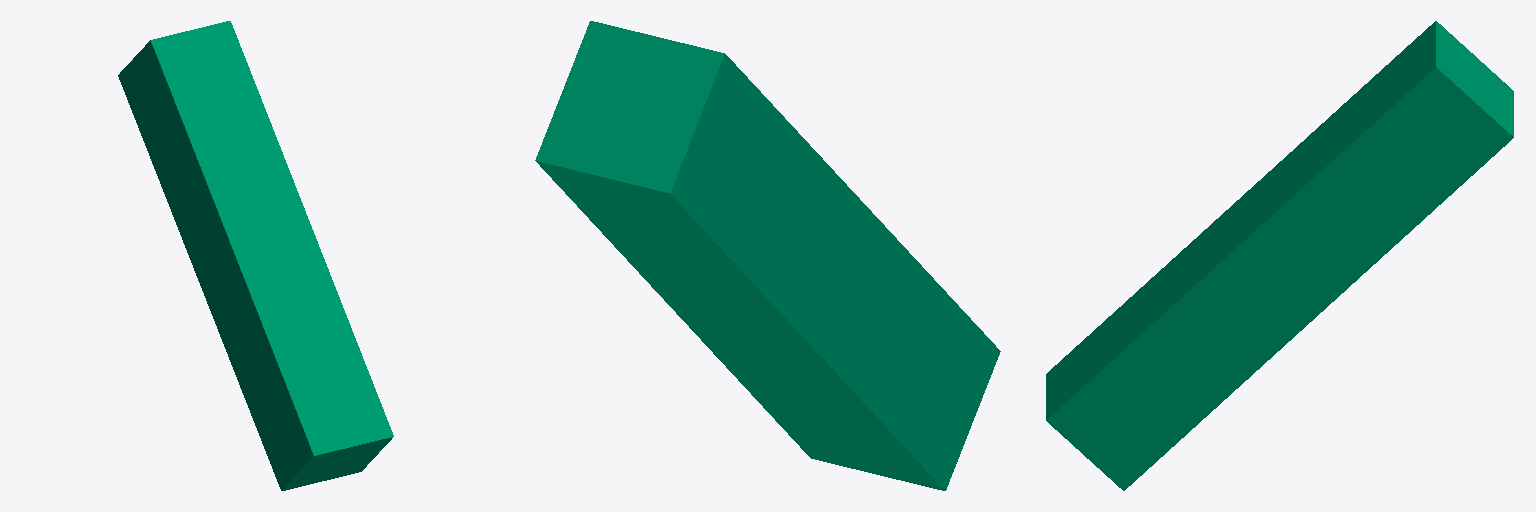
robot.urdf — panda:
<?xml version="1.0" ?>
<!-- =================================================================================== -->
<!-- |    This document was autogenerated by xacro from panda_arm_hand.urdf.xacro      | -->
<!-- |    EDITING THIS FILE BY HAND IS NOT RECOMMENDED                                 | -->
<!-- =================================================================================== -->
<robot name="panda" xmlns:xacro="http://www.ros.org/wiki/xacro">
  <link name="panda_link0">
    <visual>
      <geometry>
        <mesh filename="package://franka_description/meshes/visual/link0.dae"/>
      </geometry>
      </visual>
    <collision>
      <origin rpy="0 0 0" xyz="0.02 0.0 0.04"/>
      <geometry>
        <sphere radius="0.06"/>
      </geometry>
    </collision>
    <collision>
      <origin rpy="0 0 0" xyz="0.01 0.05 0.06"/>
      <geometry>
        <sphere radius="0.06"/>
      </geometry>
    </collision>
    <collision>
      <origin rpy="0 0 0" xyz="0.01 -0.05 0.06"/>
      <geometry>
        <sphere radius="0.06"/>
      </geometry>
    </collision>
    <collision>
      <origin rpy="0 0 0" xyz="-0.06 0.0 0.06"/>
      <geometry>
        <sphere radius="0.06"/>
      </geometry>
    </collision>
    <collision>
      <origin rpy="0 0 0" xyz="-0.06 0.05 0.06"/>
      <geometry>
        <sphere radius="0.06"/>
      </geometry>
    </collision>
    <collision>
      <origin rpy="0 0 0" xyz="-0.03 0.05 0.06"/>
      <geometry>
        <sphere radius="0.06"/>
      </geometry>
    </collision>
    <collision>
      <origin rpy="0 0 0" xyz="-0.03 -0.05 0.06"/>
      <geometry>
        <sphere radius="0.06"/>
      </geometry>
    </collision>
    <collision>
      <origin rpy="0 0 0" xyz="-0.06 -0.05 0.06"/>
      <geometry>
        <sphere radius="0.06"/>
      </geometry>
    </collision>
    <collision>
      <origin rpy="0 0 0" xyz="-0.09 -0.05 0.06"/>
      <geometry>
        <sphere radius="0.06"/>
      </geometry>
    </collision>
    <collision>
      <origin rpy="0 0 0" xyz="-0.09 0.0 0.06"/>
      <geometry>
        <sphere radius="0.06"/>
      </geometry>
    </collision>
    <collision>
      <origin rpy="0 0 0" xyz="-0.09 0.05 0.06"/>
      <geometry>
        <sphere radius="0.06"/>
      </geometry>
    </collision>
    <collision>
      <origin rpy="0 0 0" xyz="-0.12 0.0 0.06"/>
      <geometry>
        <sphere radius="0.06"/>
      </geometry>
    </collision>
    <collision>
      <origin rpy="0 0 0" xyz="0.0 0.0 0.113"/>
      <geometry>
        <sphere radius="0.06"/>
      </geometry>
    </collision>
    <collision>
      <origin rpy="0 0 0" xyz="0.0 0.0 0.083"/>
      <geometry>
        <sphere radius="0.06"/>
      </geometry>
    </collision>

    <inertial>
      <origin rpy="0 0 0" xyz="0 0 0"/>
      <mass value="2.8142028896"/>
      <inertia ixx="0.0129886979" ixy="0.0" ixz="0.0" iyy="0.0165355284" iyz="0" izz="0.0203311636"/>
    </inertial>
  </link>
  <link name="panda_link1">
    <visual>
      <geometry>
        <mesh filename="package://franka_description/meshes/visual/link1.dae"/>
      </geometry>
  </visual>
    <collision>
      <origin rpy="0 0 0" xyz="0.0 0.0 -0.13"/>
      <geometry>
        <sphere radius="0.06"/>
      </geometry>
    </collision>
    <collision>
      <origin rpy="0 0 0" xyz="0.0 0.0 -0.16"/>
      <geometry>
        <sphere radius="0.06"/>
      </geometry>
    </collision>
    <collision>
      <origin rpy="0 0 0" xyz="0.0 0.0 -0.19"/>
      <geometry>
        <sphere radius="0.06"/>
      </geometry>
    </collision>
    <collision>
      <origin rpy="0 0 0" xyz="0.0 -0.04 -0.06"/>
      <geometry>
        <sphere radius="0.06"/>
      </geometry>
    </collision>
    <collision>
      <origin rpy="0 0 0" xyz="0.0 -0.0750 -0.0"/>
      <geometry>
        <sphere radius="0.06"/>
      </geometry>
    </collision>
    <collision>
      <origin rpy="0 0 0" xyz="0.0 -0.0350 -0.0"/>
      <geometry>
        <sphere radius="0.06"/>
      </geometry>
    </collision>

    <inertial>
      <origin rpy="0 0 0" xyz="0 0 0"/>
      <mass value="2.3599995791"/>
      <inertia ixx="0.0186863903" ixy="0.0" ixz="0.0" iyy="0.0143789874" iyz="0" izz="0.00906812"/>
    </inertial>
  </link>
  <joint name="panda_joint1" type="revolute">
    <safety_controller k_position="100.0" k_velocity="40.0" soft_lower_limit="-2.8973" soft_upper_limit="2.8973"/>
    <origin rpy="0 0 0" xyz="0 0 0.333"/>
    <parent link="panda_link0"/>
    <child link="panda_link1"/>
    <axis xyz="0 0 1"/>
    <limit effort="87" lower="-2.8973" upper="2.8973" velocity="2.1750"/>
  </joint>
  <link name="panda_link2">
    <visual>
      <geometry>
        <mesh filename="package://franka_description/meshes/visual/link2.dae"/>
      </geometry>
      </visual>
      <collision>
      <origin rpy="0 0 0" xyz="0.0 0.0 0.0"/>
      <geometry>
        <sphere radius="0.06"/>
      </geometry>
    </collision>
    <collision>
      <origin rpy="0 0 0" xyz="0.0 0.0 0.035"/>
      <geometry>
        <sphere radius="0.06"/>
      </geometry>
    </collision>
    <collision>
      <origin rpy="0 0 0" xyz="0.0 0.0 0.075"/>
      <geometry>
        <sphere radius="0.06"/>
      </geometry>
    </collision>
    <collision>
      <origin rpy="0 0 0" xyz="0.0 -0.1710 0.0"/>
      <geometry>
        <sphere radius="0.06"/>
      </geometry>
    </collision>
    <collision>
      <origin rpy="0 0 0" xyz="0.0 -0.1360 0.0"/>
      <geometry>
        <sphere radius="0.06"/>
      </geometry>
    </collision>
    <collision>
      <origin rpy="0 0 0" xyz="0.0 -0.070 0.040"/>
      <geometry>
        <sphere radius="0.06"/>
      </geometry>
    </collision>
    <inertial>
      <origin rpy="0 0 0" xyz="0 0 0"/>
      <mass value="2.379518833"/>
      <inertia ixx="0.0190388734" ixy="0.0" ixz="0.0" iyy="0.0091429124" iyz="0" izz="0.014697537"/>
    </inertial>
  </link>
  <joint name="panda_joint2" type="revolute">
    <safety_controller k_position="100.0" k_velocity="40.0" soft_lower_limit="-1.7628" soft_upper_limit="1.7628"/>
    <origin rpy="-1.57079632679 0 0" xyz="0 0 0"/>
    <parent link="panda_link1"/>
    <child link="panda_link2"/>
    <axis xyz="0 0 1"/>
    <limit effort="87" lower="-1.7628" upper="1.7628" velocity="2.1750"/>
  </joint>
  <link name="panda_link3">
    <visual>
      <geometry>
        <mesh filename="package://franka_description/meshes/visual/link3.dae"/>
      </geometry>
  </visual>
    <collision>
      <origin rpy="0 0 0" xyz="0.0 0.0 -0.11"/>
      <geometry>
        <sphere radius="0.06"/>
      </geometry>
    </collision>
    <collision>
      <origin rpy="0 0 0" xyz="0.0 0.0 -0.07"/>
      <geometry>
        <sphere radius="0.06"/>
      </geometry>
    </collision>
    <collision>
      <origin rpy="0 0 0" xyz="0.0825 0.03 -0.0"/>
      <geometry>
        <sphere radius="0.06"/>
      </geometry>
    </collision>
    <collision>
      <origin rpy="0 0 0" xyz="0.0825 0.06 -0.0"/>
      <geometry>
        <sphere radius="0.06"/>
      </geometry>
    </collision>
    <collision>
      <origin rpy="0 0 0" xyz="0.04 0.03 -0.03"/>
      <geometry>
        <sphere radius="0.06"/>
      </geometry>
    </collision>
    <inertial>
      <origin rpy="0 0 0" xyz="0 0 0"/>
      <mass value="2.6498823337"/>
      <inertia ixx="0.0129300178" ixy="0.0" ixz="0.0" iyy="0.0150242121" iyz="0" izz="0.0142734598"/>
    </inertial>
  </link>
  <joint name="panda_joint3" type="revolute">
    <safety_controller k_position="100.0" k_velocity="40.0" soft_lower_limit="-2.8973" soft_upper_limit="2.8973"/>
    <origin rpy="1.57079632679 0 0" xyz="0 -0.316 0"/>
    <parent link="panda_link2"/>
    <child link="panda_link3"/>
    <axis xyz="0 0 1"/>
    <limit effort="87" lower="-2.8973" upper="2.8973" velocity="2.1750"/>
  </joint>
  <link name="panda_link4">
    <visual>
      <geometry>
        <mesh filename="package://franka_description/meshes/visual/link4.dae"/>
      </geometry>
      </visual>
      <collision>
      <origin rpy="0 0 0" xyz="0.0 0.0 0.06"/>
      <geometry>
        <sphere radius="0.06"/>
      </geometry>
    </collision>
    <collision>
      <origin rpy="0 0 0" xyz="0.0 0.0 0.03"/>
      <geometry>
        <sphere radius="0.06"/>
      </geometry>
    </collision>
    <collision>
      <origin rpy="0 0 0" xyz="-0.0350 0.03 0.04"/>
      <geometry>
        <sphere radius="0.05"/>
      </geometry>
    </collision>
    <collision>
      <origin rpy="0 0 0" xyz="-0.05 0.04 0.01"/>
      <geometry>
        <sphere radius="0.055"/>
      </geometry>
    </collision>
    <collision>
      <origin rpy="0 0 0" xyz="0.0 0.0 0.0"/>
      <geometry>
        <sphere radius="0.06"/>
      </geometry>
    </collision>
    <collision>
      <origin rpy="0 0 0" xyz="-0.0825 0.0640 -0.0"/>
      <geometry>
        <sphere radius="0.06"/>
      </geometry>
    </collision>
    <collision>
      <origin rpy="0 0 0" xyz="-0.0825 0.1040 -0.0"/>
      <geometry>
        <sphere radius="0.06"/>
      </geometry>
    </collision>
    <inertial>
      <origin rpy="0 0 0" xyz="0 0 0"/>
      <mass value="2.6948018744"/>
      <inertia ixx="0.0133874611" ixy="0.0" ixz="0.0" iyy="0.014514325" iyz="0" izz="0.0155175551"/>
    </inertial>
  </link>
  <joint name="panda_joint4" type="revolute">
    <safety_controller k_position="100.0" k_velocity="40.0" soft_lower_limit="-3.0718" soft_upper_limit="-0.0698"/>
    <origin rpy="1.57079632679 0 0" xyz="0.0825 0 0"/>
    <parent link="panda_link3"/>
    <child link="panda_link4"/>
    <axis xyz="0 0 1"/>
    <limit effort="87" lower="-3.0718" upper="-0.0698" velocity="2.1750"/>
  </joint>
  <link name="panda_link5">
    <visual>
      <geometry>
        <mesh filename="package://franka_description/meshes/visual/link5.dae"/>
      </geometry>
      </visual>
      <collision>
      <origin rpy="0 0 0" xyz="0.0 0.0 -0.24"/>
      <geometry>
        <sphere radius="0.06"/>
      </geometry>
    </collision>
    <collision>
      <origin rpy="0 0 0" xyz="0.0 0.0 -0.21"/>
      <geometry>
        <sphere radius="0.06"/>
      </geometry>
    </collision>
    <collision>
      <origin rpy="0 0 0" xyz="0.0 0.09 -0.055"/>
      <geometry>
        <sphere radius="0.035"/>
      </geometry>
    </collision>
    <collision>
      <origin rpy="0 0 0" xyz="0.0 0.0850 -0.08"/>
      <geometry>
        <sphere radius="0.035"/>
      </geometry>
    </collision>
    <collision>
      <origin rpy="0 0 0" xyz="0.0 0.0850 -0.11"/>
      <geometry>
        <sphere radius="0.035"/>
      </geometry>
    </collision>
    <collision>
      <origin rpy="0 0 0" xyz="0.0 0.08 -0.13"/>
      <geometry>
        <sphere radius="0.035"/>
      </geometry>
    </collision>
    <collision>
      <origin rpy="0 0 0" xyz="0.0 0.08 -0.15"/>
      <geometry>
        <sphere radius="0.035"/>
      </geometry>
    </collision>
    <collision>
      <origin rpy="0 0 0" xyz="0.0 0.07 -0.16"/>
      <geometry>
        <sphere radius="0.04"/>
      </geometry>
    </collision>
    <collision>
      <origin rpy="0 0 0" xyz="0.0 0.08 -0.02"/>
      <geometry>
        <sphere radius="0.05"/>
      </geometry>
    </collision>
    <collision>
      <origin rpy="0 0 0" xyz="0.0 0.08 -0.0"/>
      <geometry>
        <sphere radius="0.055"/>
      </geometry>
    </collision>
    <collision>
      <origin rpy="0 0 0" xyz="0.0 0.05 -0.20"/>
      <geometry>
        <sphere radius="0.055"/>
      </geometry>
    </collision>
    <collision>
      <origin rpy="0 0 0" xyz="0.0 0.07 -0.0"/>
      <geometry>
        <sphere radius="0.06"/>
      </geometry>
    </collision>

    <inertial>
      <origin rpy="0 0 0" xyz="0 0 0"/>
      <mass value="2.9812816864"/>
      <inertia ixx="0.0325565705" ixy="0.0" ixz="0.0" iyy="0.0270660472" iyz="0" izz="0.0115023375"/>
    </inertial>
  </link>
  <joint name="panda_joint5" type="revolute">
    <safety_controller k_position="100.0" k_velocity="40.0" soft_lower_limit="-2.8973" soft_upper_limit="2.8973"/>
    <origin rpy="-1.57079632679 0 0" xyz="-0.0825 0.384 0"/>
    <parent link="panda_link4"/>
    <child link="panda_link5"/>
    <axis xyz="0 0 1"/>
    <limit effort="12" lower="-2.8973" upper="2.8973" velocity="2.6100"/>
  </joint>
  <link name="panda_link6">
    <visual>
      <geometry>
        <mesh filename="package://franka_description/meshes/visual/link6.dae"/>
      </geometry>
      </visual>
      <collision>
      <origin rpy="0 0 0" xyz="0.08 0.03 0.0"/>
      <geometry>
        <sphere radius="0.06"/>
      </geometry>
    </collision>
    <collision>
      <origin rpy="0 0 0" xyz="0.04 0.01 0.0"/>
      <geometry>
        <sphere radius="0.06"/>
      </geometry>
    </collision>
    <collision>
      <origin rpy="0 0 0" xyz="0.04 0.0 0.0"/>
      <geometry>
        <sphere radius="0.06"/>
      </geometry>
    </collision>
    <collision>
      <origin rpy="0 0 0" xyz="0.0 0.0 0.01"/>
      <geometry>
        <sphere radius="0.06"/>
      </geometry>
    </collision>
    <collision>
      <origin rpy="0 0 0" xyz="0.0 0.0 -0.03"/>
      <geometry>
        <sphere radius="0.05"/>
      </geometry>
    </collision>
    <inertial>
      <origin rpy="0 0 0" xyz="0 0 0"/>
      <mass value="1.1285806309"/>
      <inertia ixx="0.0026052565" ixy="0.0" ixz="0.0" iyy="0.0039897229" iyz="0" izz="0.0047048591"/>
    </inertial>
  </link>
  <joint name="panda_joint6" type="revolute">
    <safety_controller k_position="100.0" k_velocity="40.0" soft_lower_limit="-0.0175" soft_upper_limit="3.7525"/>
    <origin rpy="1.57079632679 0 0" xyz="0 0 0"/>
    <parent link="panda_link5"/>
    <child link="panda_link6"/>
    <axis xyz="0 0 1"/>
    <limit effort="12" lower="-0.0175" upper="3.7525" velocity="2.6100"/>
  </joint>
  <link name="panda_link7">
    <visual>
      <geometry>
        <mesh filename="package://franka_description/meshes/visual/link7.dae"/>
      </geometry>
      </visual>
      <collision>
      <origin rpy="0 0 0" xyz="0 0 0.06"/>
      <geometry>
        <sphere radius="0.06"/>
      </geometry>
    </collision>
    <collision>
      <origin rpy="0 0 0" xyz="0 0 0.01"/>
      <geometry>
        <sphere radius="0.05"/>
      </geometry>
    </collision>
    <inertial>
      <origin rpy="0 0 0" xyz="0 0 0"/>
      <mass value="0.4052912465"/>
      <inertia ixx="0.0006316592" ixy="0.0" ixz="0.0" iyy="0.0006319639" iyz="0" izz="0.0010607721"/>
    </inertial>
  </link>
  <joint name="panda_joint7" type="revolute">
    <safety_controller k_position="100.0" k_velocity="40.0" soft_lower_limit="-2.8973" soft_upper_limit="2.8973"/>
    <origin rpy="1.57079632679 0 0" xyz="0.088 0 0"/>
    <parent link="panda_link6"/>
    <child link="panda_link7"/>
    <axis xyz="0 0 1"/>
    <limit effort="12" lower="-2.8973" upper="2.8973" velocity="2.6100"/>
  </joint>
  <link name="panda_tool_tip"/>
  <link name="panda_link8">
    <collision>
      <origin rpy="0 0 0" xyz="0.042 0.042 -0.02"/>
      <geometry>
        <sphere radius="0.04"/>
      </geometry>
    </collision>
  </link>
  <link name="camera_frame">
    <visual>
      <geometry>
        <box size="0.1 0.02 0.02" />
      </geometry>
    </visual>
    <collision>
      <geometry>
        <box size="0.1 0.02 0.02" />
      </geometry>
    </collision>
  </link>
  <joint name="panda_joint8" type="fixed">
    <origin rpy="0 0 0" xyz="0 0 0.107"/>
    <parent link="panda_link7"/>
    <child link="panda_link8"/>
    <axis xyz="0 0 0"/>
</joint>
  <transmission name="panda_tran1">
    <type>transmission_interface/SimpleTransmission</type>
    <joint name="panda_joint1">
      <hardwareInterface>PositionJointInterface</hardwareInterface>
    </joint>
    <actuator name="panda_motor1">
      <hardwareInterface>PositionJointInterface</hardwareInterface>
      <mechanicalReduction>1</mechanicalReduction>
    </actuator>
  </transmission>
  <transmission name="panda_tran2">
    <type>transmission_interface/SimpleTransmission</type>
    <joint name="panda_joint2">
      <hardwareInterface>PositionJointInterface</hardwareInterface>
    </joint>
    <actuator name="panda_motor2">
      <hardwareInterface>PositionJointInterface</hardwareInterface>
      <mechanicalReduction>1</mechanicalReduction>
    </actuator>
  </transmission>
  <transmission name="panda_tran3">
    <type>transmission_interface/SimpleTransmission</type>
    <joint name="panda_joint3">
      <hardwareInterface>PositionJointInterface</hardwareInterface>
    </joint>
    <actuator name="panda_motor3">
      <hardwareInterface>PositionJointInterface</hardwareInterface>
      <mechanicalReduction>1</mechanicalReduction>
    </actuator>
  </transmission>
  <transmission name="panda_tran4">
    <type>transmission_interface/SimpleTransmission</type>
    <joint name="panda_joint4">
      <hardwareInterface>PositionJointInterface</hardwareInterface>
    </joint>
    <actuator name="panda_motor4">
      <hardwareInterface>PositionJointInterface</hardwareInterface>
      <mechanicalReduction>1</mechanicalReduction>
    </actuator>
  </transmission>
  <transmission name="panda_tran5">
    <type>transmission_interface/SimpleTransmission</type>
    <joint name="panda_joint5">
      <hardwareInterface>PositionJointInterface</hardwareInterface>
    </joint>
    <actuator name="panda_motor5">
      <hardwareInterface>PositionJointInterface</hardwareInterface>
      <mechanicalReduction>1</mechanicalReduction>
    </actuator>
  </transmission>
  <transmission name="panda_tran6">
    <type>transmission_interface/SimpleTransmission</type>
    <joint name="panda_joint6">
      <hardwareInterface>PositionJointInterface</hardwareInterface>
    </joint>
    <actuator name="panda_motor6">
      <hardwareInterface>PositionJointInterface</hardwareInterface>
      <mechanicalReduction>1</mechanicalReduction>
    </actuator>
  </transmission>
  <transmission name="panda_tran7">
    <type>transmission_interface/SimpleTransmission</type>
    <joint name="panda_joint7">
      <hardwareInterface>PositionJointInterface</hardwareInterface>
    </joint>
    <actuator name="panda_motor7">
      <hardwareInterface>PositionJointInterface</hardwareInterface>
      <mechanicalReduction>1</mechanicalReduction>
    </actuator>
  </transmission>

  <joint name="panda_hand_joint" type="fixed">
    <parent link="panda_link8"/>
    <child link="panda_hand"/>
    <origin rpy="0 0 -0.785398163397" xyz="0 0 0"/>
  </joint>
  <link name="panda_hand">
    <visual>
      <geometry>
        <mesh filename="package://franka_description/meshes/visual/hand.dae"/>
      </geometry>
      </visual>
      <collision>
      <origin rpy="0 0 0" xyz="0 -0.06 0.015"/>
      <geometry>
        <sphere radius="0.05"/>
      </geometry>
    </collision>
    <collision>
      <origin rpy="0 0 0" xyz="0 -0.06 0.03"/>
      <geometry>
        <sphere radius="0.05"/>
      </geometry>
    </collision>
    <collision>
      <origin rpy="0 0 0" xyz="0 0 0.03"/>
      <geometry>
        <sphere radius="0.05"/>
      </geometry>
    </collision>
    <collision>
      <origin rpy="0 0 0" xyz="0 0.06 0.03"/>
      <geometry>
        <sphere radius="0.05"/>
      </geometry>
    </collision>
    <inertial>
      <origin rpy="0 0 0" xyz="0 0 0"/>
      <mass value="0.5583304799"/>
      <inertia ixx="0.0023394448" ixy="0.0" ixz="0.0" iyy="0.0005782786" iyz="0" izz="0.0021310296"/>
    </inertial>
  </link>
  <joint name="panda_tool_tip_joint" type="fixed">
    <origin rpy="0 -1.5708 0" xyz="0 0 0.10"/>
    <parent link="panda_hand"/>
    <child link="panda_tool_tip"/>
    <axis xyz="0 0 0"/>
  </joint>

  <joint name="camera_frame_joint" type="fixed">
    <origin rpy="0 0 -1.5708" xyz="0.030768772587180138 0.0 0.05"/>
    <parent link="panda_hand"/>
    <child link="camera_frame"/>
    <axis xyz="0 0 0"/>
  </joint>
  <link name="panda_leftfinger">
    <visual>
      <geometry>
        <mesh filename="package://franka_description/meshes/visual/finger.dae"/>
      </geometry>
      </visual>
      <collision>
      <origin rpy="0 0 0" xyz="0 0.007 0.045"/>
      <geometry>
        <sphere radius="0.012"/>
        </geometry>
      <surface>
      <friction>
        <ode>
            <mu>8.0</mu>
            <mu2>8.0</mu2>
        </ode>
      </friction>
      </surface>
    </collision>
    <collision>
      <origin rpy="0 0 0" xyz="0 0.015 0.03"/>
      <geometry>
        <sphere radius="0.012"/>
      </geometry>
      <surface>
      <friction>
        <ode>
            <mu>8.0</mu>
            <mu2>8.0</mu2>
        </ode>
      </friction>
      </surface>
    </collision>
    <inertial>
      <origin rpy="0 0 0" xyz="0 0 0"/>
      <mass value="0.0140552232"/>
      <inertia ixx="4.20413082650939E-06" ixy="0.0" ixz="0.0" iyy="3.90263687466755E-06" iyz="0" izz="1.33474964199095E-06"/>
    </inertial>
  </link>
  <link name="panda_rightfinger">
    <visual>
      <origin rpy="0 0 3.14159265359" xyz="0 0 0"/>
      <geometry>
        <mesh filename="package://franka_description/meshes/visual/finger.dae"/>
      </geometry>
      </visual>
      <collision>
      <origin rpy="0 0 0" xyz="0 -0.007 0.045"/>
      <geometry>
        <sphere radius="0.012"/>
      </geometry>
      <surface>
      <friction>
        <ode>
            <mu>8.0</mu>
            <mu2>8.0</mu2>
        </ode>
      </friction>
      </surface>
    </collision>
    <collision>
      <origin rpy="0 0 0" xyz="0 -0.015 0.03"/>
      <geometry>
        <sphere radius="0.012"/>
      </geometry>
      <surface>
      <friction>
          <ode>
            <mu>8.0</mu>
            <mu2>8.0</mu2>
          </ode>
        </friction>
      </surface>
    </collision>

    <inertial>
      <origin rpy="0 0 0" xyz="0 0 0"/>
      <mass value="0.0140552232"/>
      <inertia ixx="4.20413082650939E-06" ixy="0.0" ixz="0.0" iyy="3.90263687466755E-06" iyz="0" izz="1.33474964199095E-06"/>
    </inertial>
  </link>
  <joint name="panda_finger_joint1" type="prismatic">
    <parent link="panda_hand"/>
    <child link="panda_leftfinger"/>
    <origin rpy="0 0 0" xyz="0 0 0.0584"/>
    <axis xyz="0 1 0"/>
    <limit effort="20" lower="0.0" upper="0.045" velocity="0.2"/>
  </joint>
  <joint name="panda_finger_joint2" type="prismatic">
    <parent link="panda_hand"/>
    <child link="panda_rightfinger"/>
    <origin rpy="0 0 0" xyz="0 0 0.0584"/>
    <axis xyz="0 -1 0"/>
    <limit effort="20" lower="0.0" upper="0.045" velocity="0.2"/>
    <mimic joint="panda_finger_joint1"/>
    </joint>
    <transmission name="panda_finger_tran1">
    <type>transmission_interface/SimpleTransmission</type>
    <joint name="panda_finger_joint1">
      <hardwareInterface>PositionJointInterface</hardwareInterface>
    </joint>
    <actuator name="panda_finger_motor1">
      <hardwareInterface>PositionJointInterface</hardwareInterface>
      <mechanicalReduction>1</mechanicalReduction>
    </actuator>
  </transmission>
  <transmission name="panda_finger_tran2">
    <type>transmission_interface/SimpleTransmission</type>
    <joint name="panda_finger_joint2">
      <hardwareInterface>PositionJointInterface</hardwareInterface>
    </joint>
    <actuator name="panda_finger_motor2">
      <hardwareInterface>PositionJointInterface</hardwareInterface>
      <mechanicalReduction>1</mechanicalReduction>
    </actuator>
  </transmission>

</robot>

--- Render facts (derived) ---
The picture shows the robot from 3 angles, left to right: view 1: azimuth 30°, elevation 25°; view 2: azimuth 150°, elevation 25°; view 3: azimuth 270°, elevation 25°; orthographic projection.
Robot: panda — 14 links, 13 joints (7 revolute, 2 prismatic, 4 fixed); root link panda_link0; default pose: all joints at 0 but 1 set to mid-range because 0 is outside their limits (panda_joint4 = -1.57).
Visible links, largest first — view 1: camera_frame; view 2: camera_frame; view 3: camera_frame.
Boxes of the visible links, x1,y1,x2,y2 form: camera_frame: [118, 21, 393, 490]; camera_frame: [535, 21, 1000, 490]; camera_frame: [1046, 21, 1513, 490].
Bounding box of the posed robot: 0.02 × 0.0849 × 0.0849 m (x, y, z).
Meshes: 10 distinct files referenced, 0 mesh visuals loaded (none loaded); not drawn: 11 (reference not matched to a file when rendering).